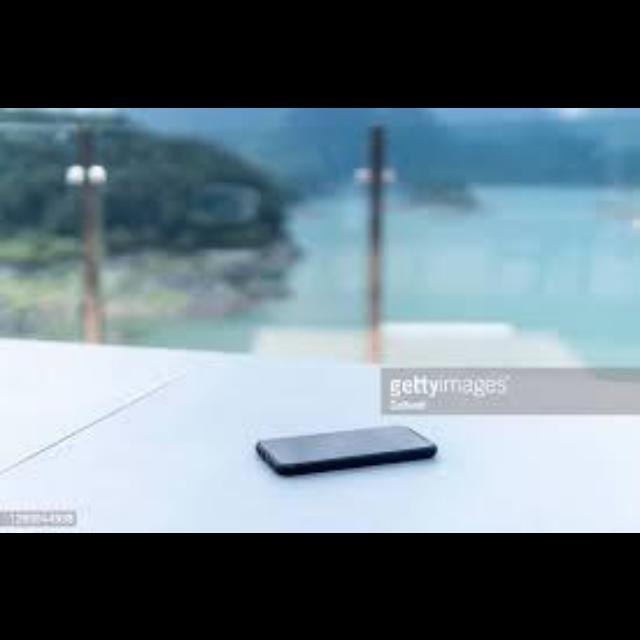Phone: (256, 422, 438, 486)
